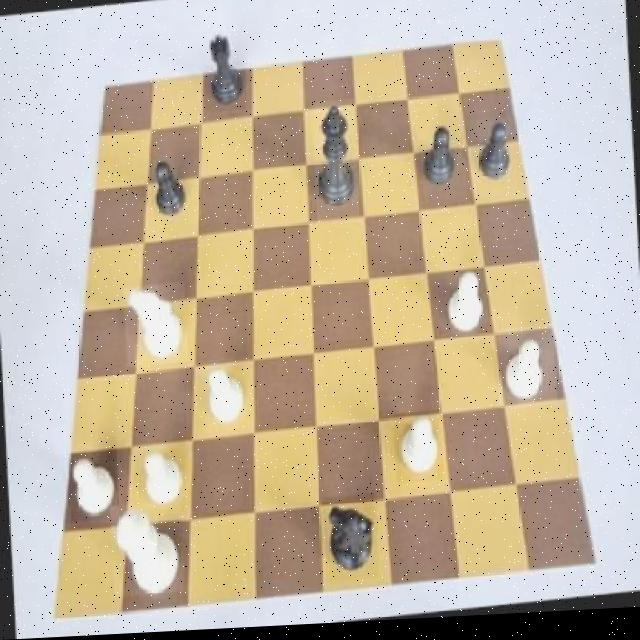black-bishop: (311, 102, 360, 225)
black-king: (322, 496, 378, 587)
black-knight: (467, 123, 517, 204), (419, 120, 462, 205), (146, 158, 192, 226)
black-queen: (200, 34, 246, 116)
white-bishop: (109, 502, 185, 601)
white-king: (123, 285, 188, 370)
white-knight: (496, 331, 557, 414), (434, 267, 494, 350), (200, 360, 252, 438), (66, 449, 120, 524), (137, 443, 190, 519), (392, 414, 443, 490)
